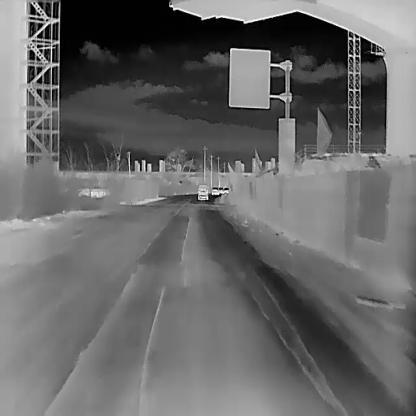car: (198, 184, 208, 200), (212, 186, 219, 194), (223, 186, 229, 193), (219, 186, 223, 193)
